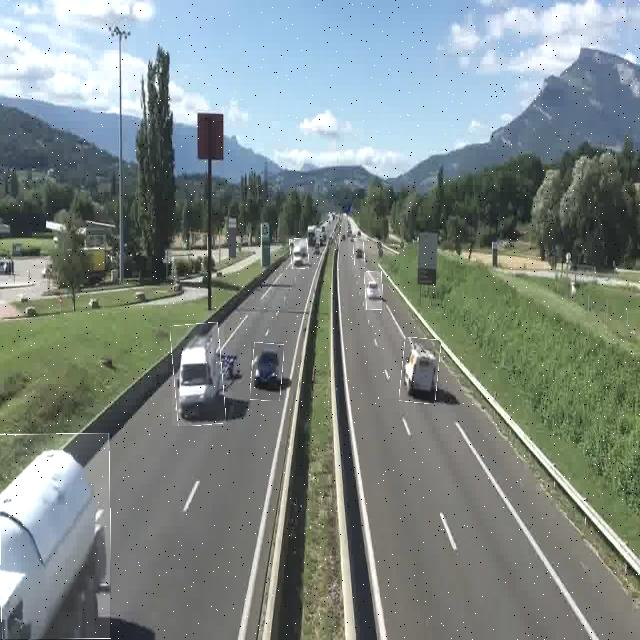Car: (401, 338, 439, 404), (251, 342, 283, 400), (365, 272, 382, 310), (290, 239, 309, 269), (354, 238, 365, 268)
Truck: (0, 433, 110, 639), (172, 323, 224, 426)
